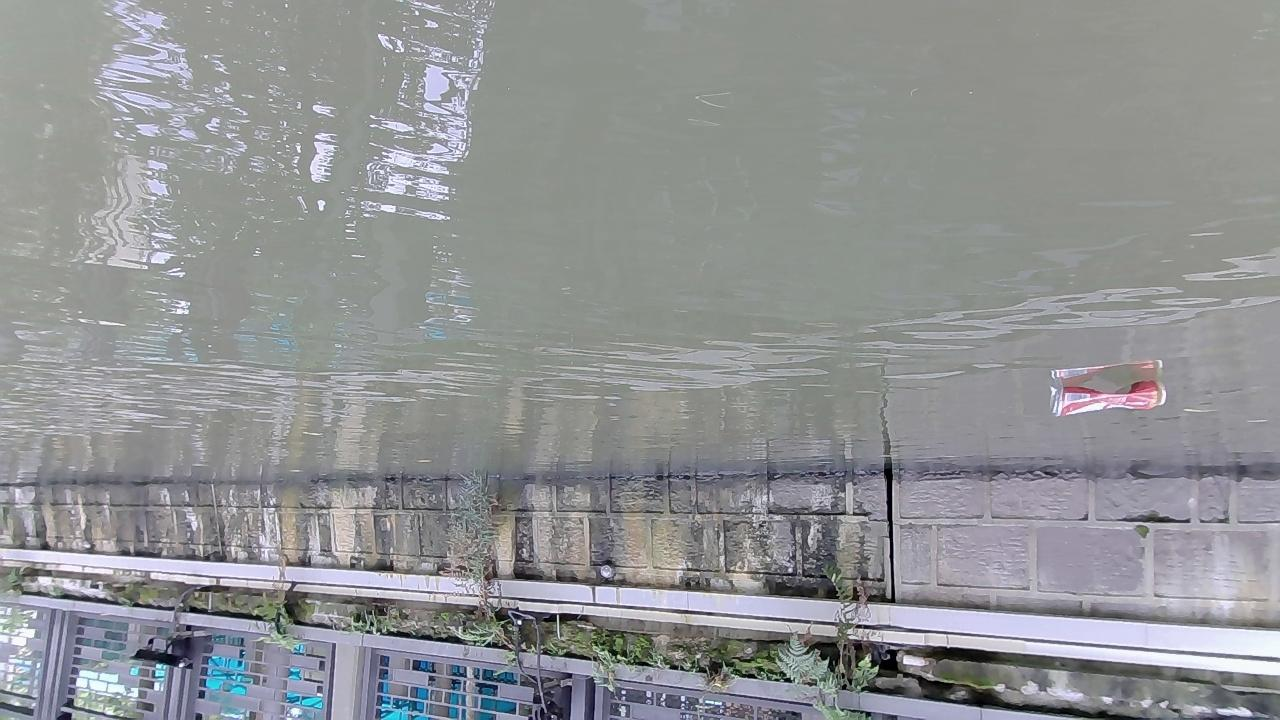Metal: (1048, 379, 1169, 419)
